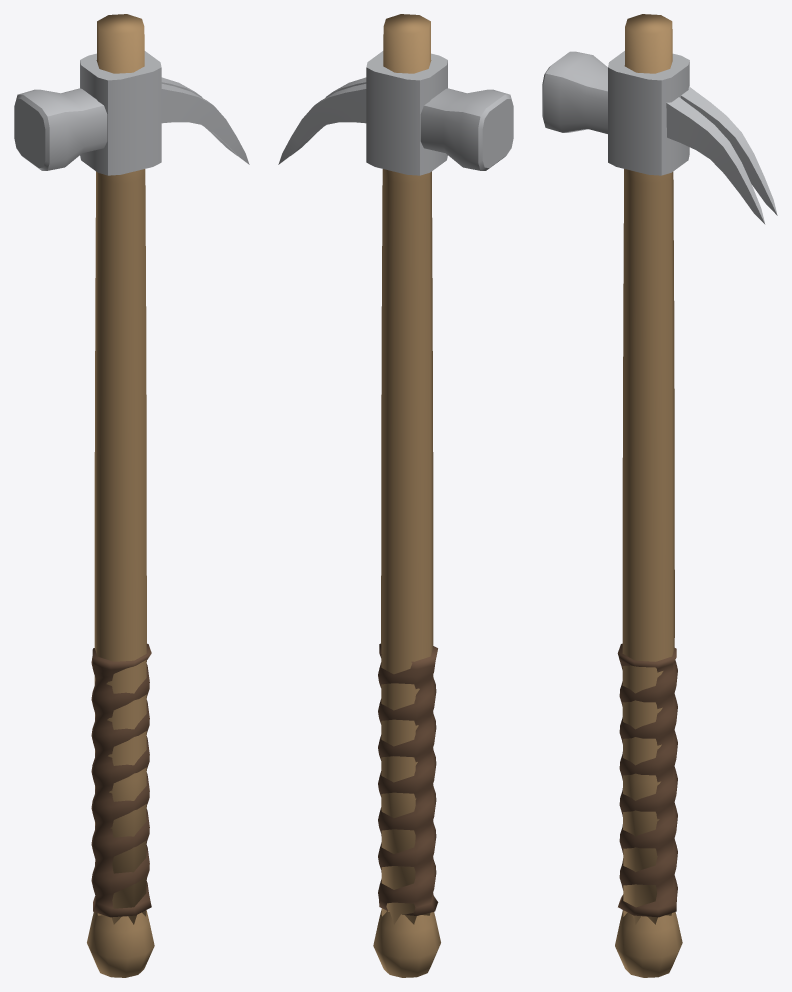
The model's file is light-hammer.glb.
3 renders of one model, left to right at view 1: azimuth 30°, elevation 25°; view 2: azimuth 150°, elevation 25°; view 3: azimuth 330°, elevation 25°, orthographic.
Visible parts, largest first — view 1: light-hammer; view 2: light-hammer; view 3: light-hammer.
Part boxes in pixels (left/top/right/bottom): light-hammer: left=14, top=14, right=249, bottom=977; light-hammer: left=278, top=14, right=513, bottom=977; light-hammer: left=542, top=14, right=777, bottom=977.
Size of the model in its own units: 0.282 by 1.2 by 0.0803.
